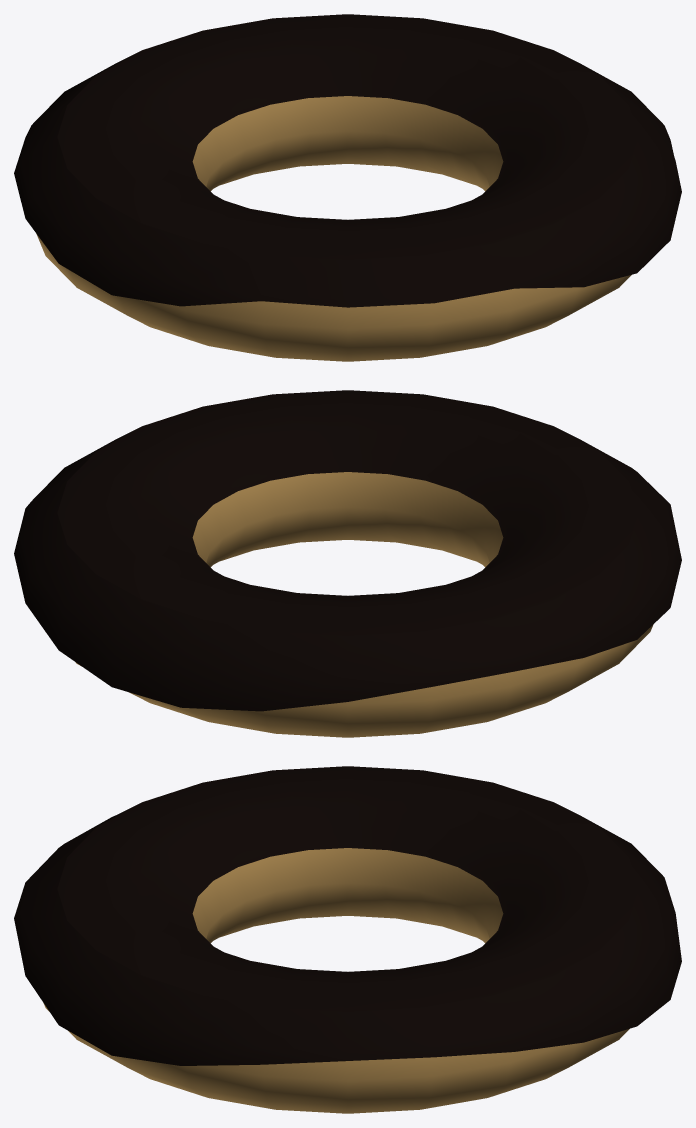
The model's file is NakedDonut.FBX.
The picture shows the model from 3 angles, top to bottom: view 1: azimuth 30°, elevation 25°; view 2: azimuth 150°, elevation 25°; view 3: azimuth 270°, elevation 25°; orthographic projection.
Parts seen in each view (by area): view 1: Object001, Torus001; view 2: Object001, Torus001; view 3: Object001, Torus001.
Boxes of the visible parts, <box> form: Object001: <box>14,14,681,307</box>; Torus001: <box>36,96,631,361</box>; Object001: <box>14,390,681,711</box>; Torus001: <box>75,472,653,737</box>; Object001: <box>14,766,681,1065</box>; Torus001: <box>43,848,629,1113</box>.
Size of the model in its own units: 4.48 by 0.9071 by 4.48.
